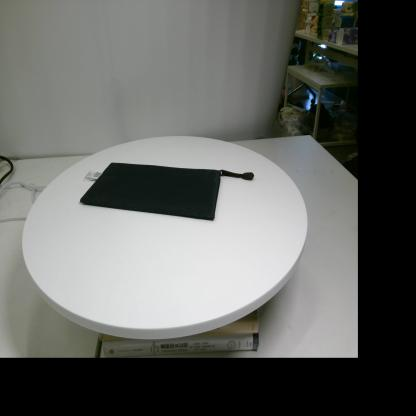Stationery: (80, 162, 254, 219)
